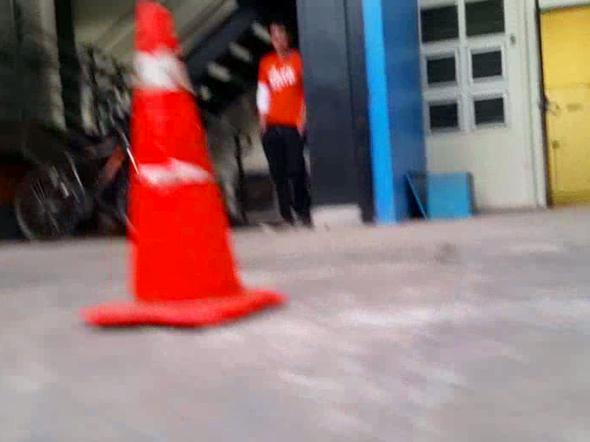0 cone: (91, 1, 281, 325)
